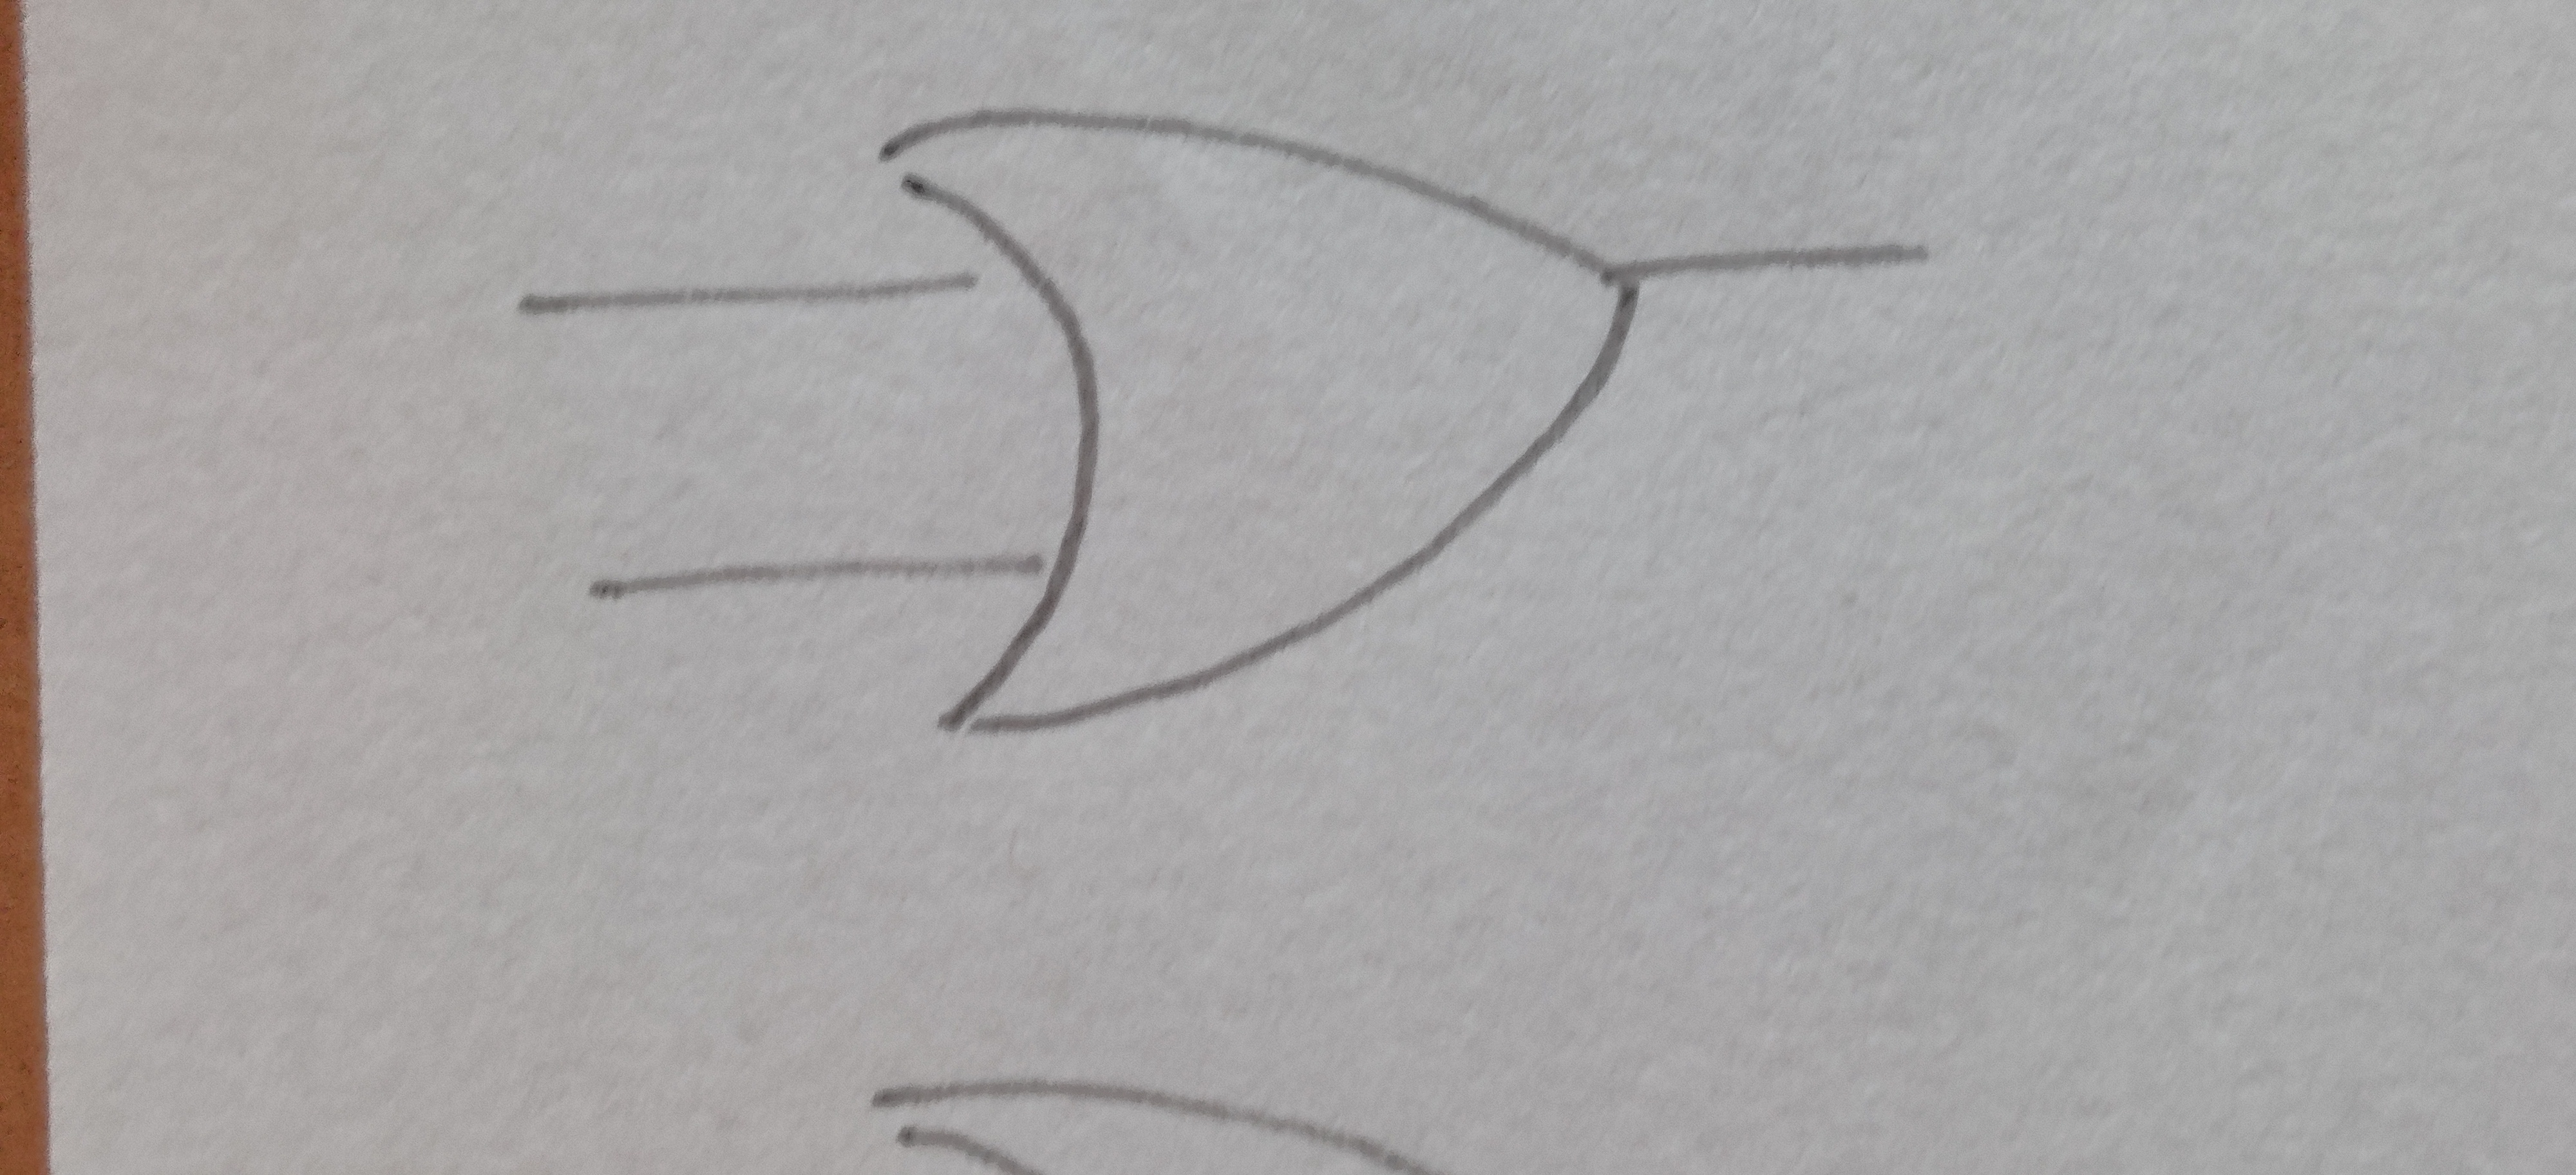or: (884, 115, 1636, 736)
